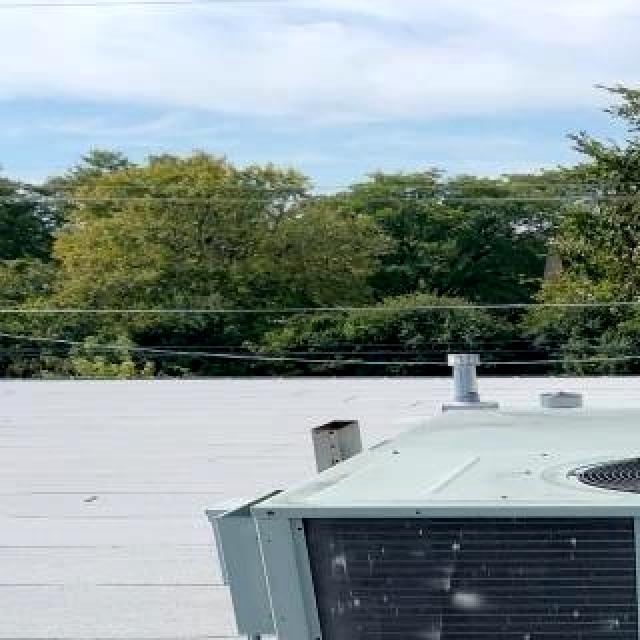RTU: (202, 394, 640, 640)
